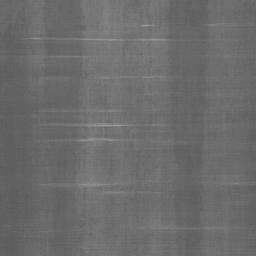Waist folding: (0, 107, 187, 146), (26, 22, 178, 43), (40, 181, 175, 199), (40, 70, 173, 81), (140, 224, 256, 231), (0, 54, 89, 60), (205, 21, 256, 28), (132, 243, 176, 250), (213, 180, 256, 187), (224, 75, 256, 77)
